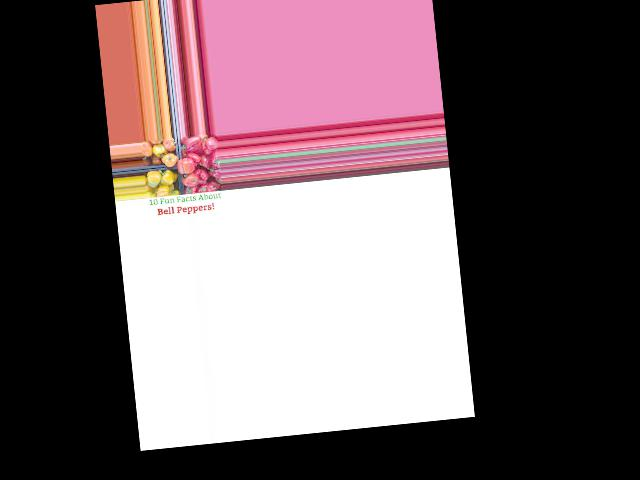bell_pepper: (192, 180, 215, 195)
